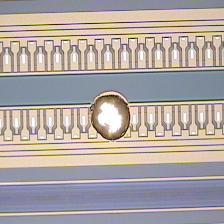COATING BAD: (86, 92, 138, 144)
